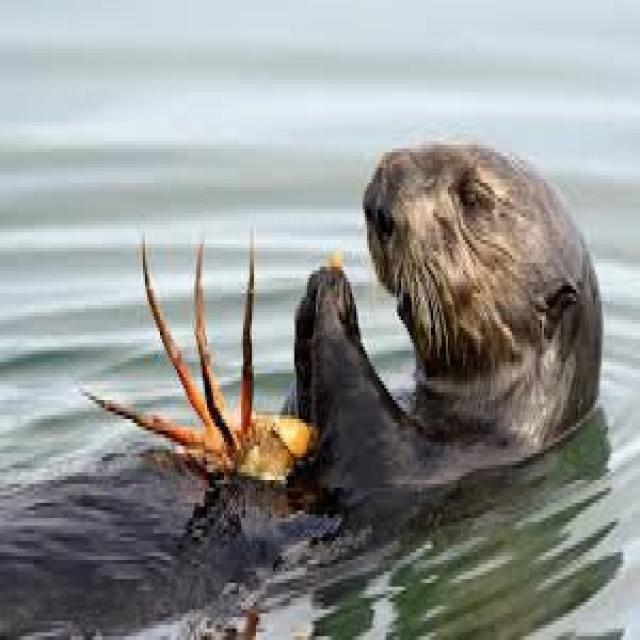Otter: (306, 123, 610, 518)
